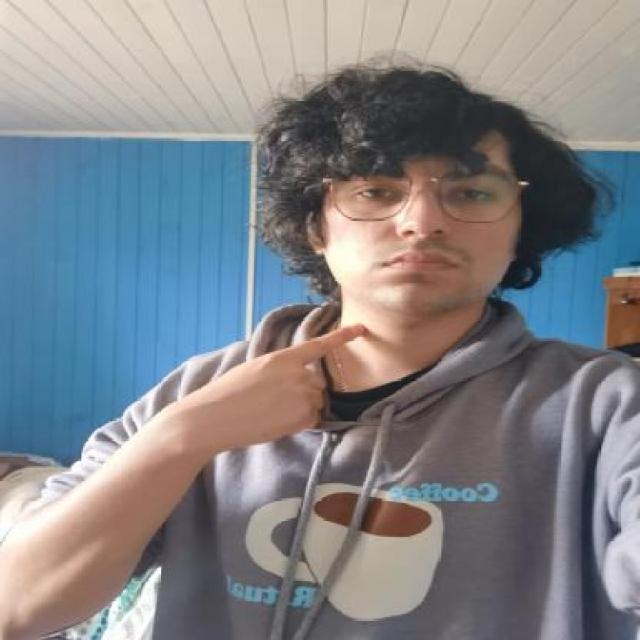Q: (161, 323, 367, 440)
